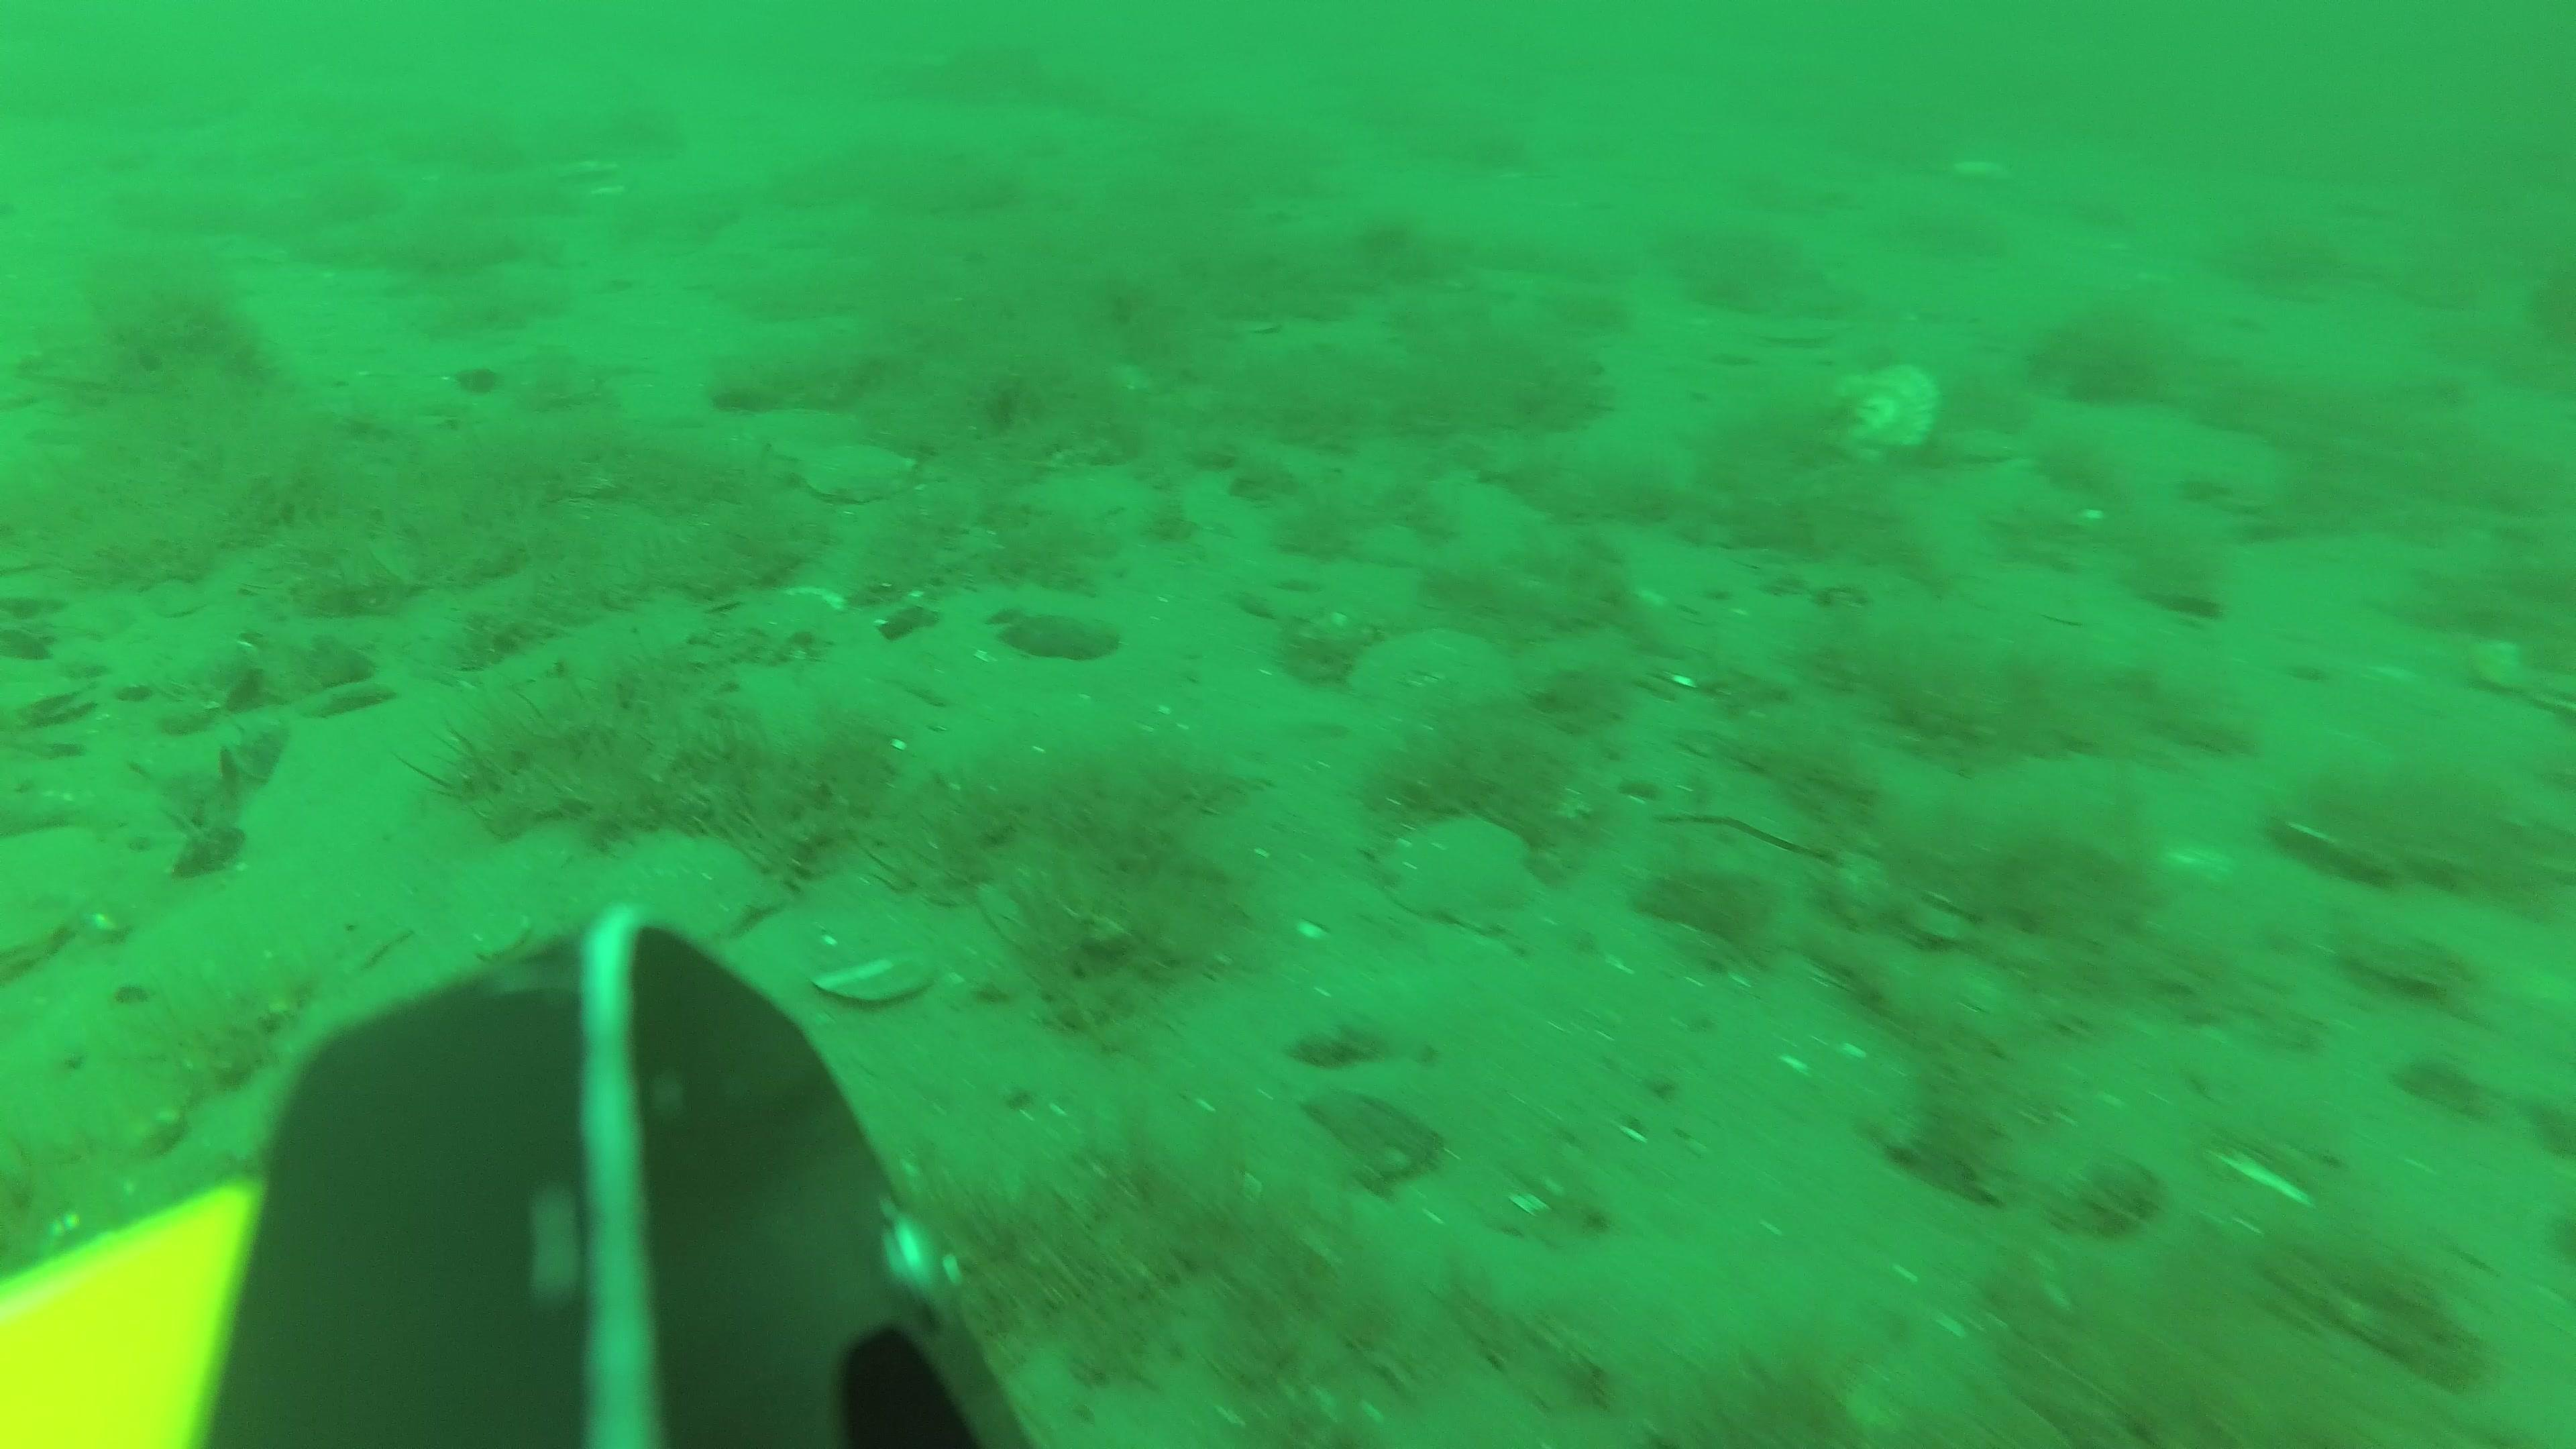scallop: (605, 839, 780, 962), (1352, 621, 1522, 736), (1382, 817, 1543, 938), (0, 817, 97, 978), (1831, 364, 1943, 462), (805, 442, 916, 502), (748, 407, 858, 460)
